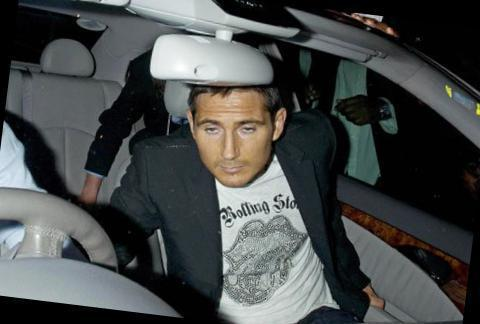Drunk: (197, 87, 269, 186)
